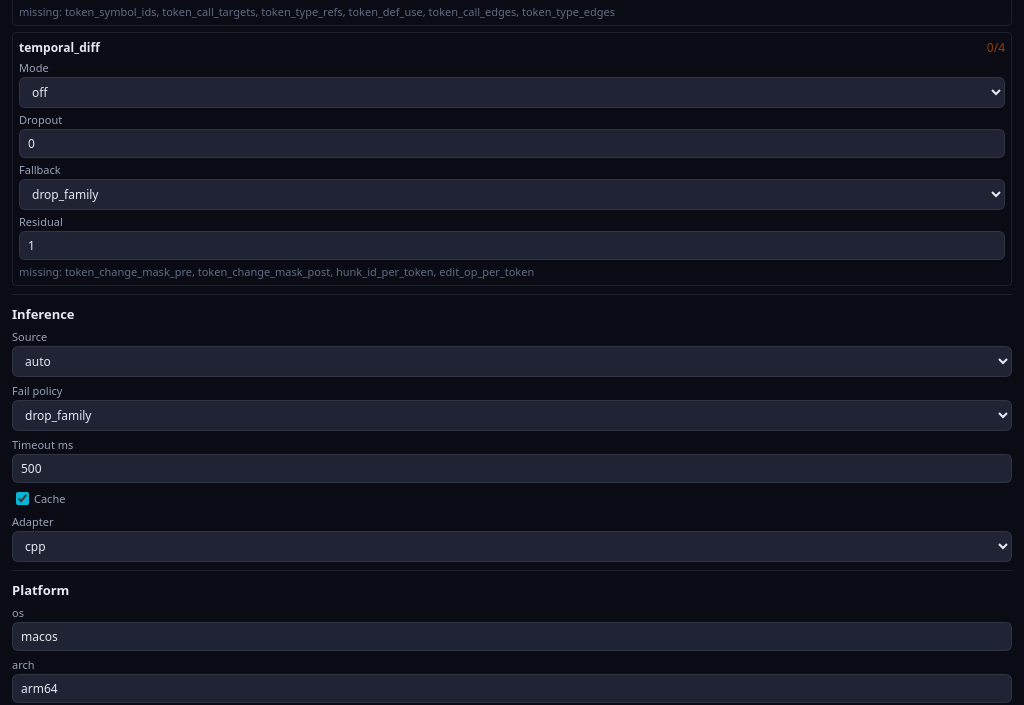
it: SideChannelsTab › runs enriched preview and renders generated tensor summaries
(page scrolled)
Select "parse_if_possible" in the dropdown with test id "side-channel-inference-source". click: (512, 362)
box: [12, 346, 1012, 377]
(page scrolled)
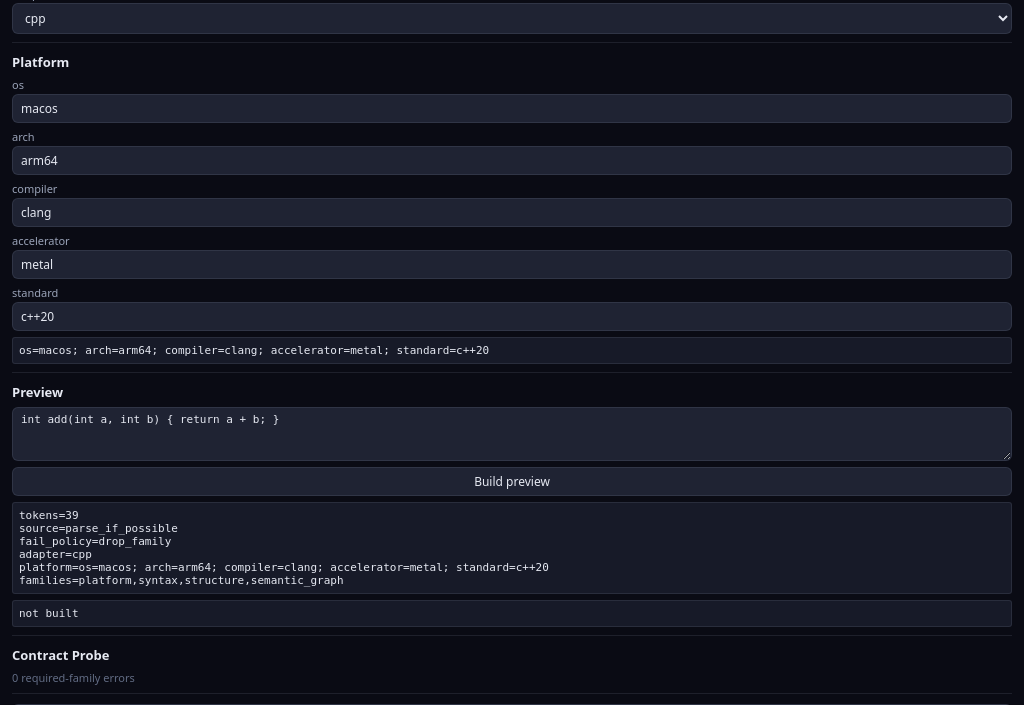
Replace the text in the text box with test id "side-channel-preview-prompt" with "int x;". click: (512, 434)
box: [12, 407, 1012, 461]
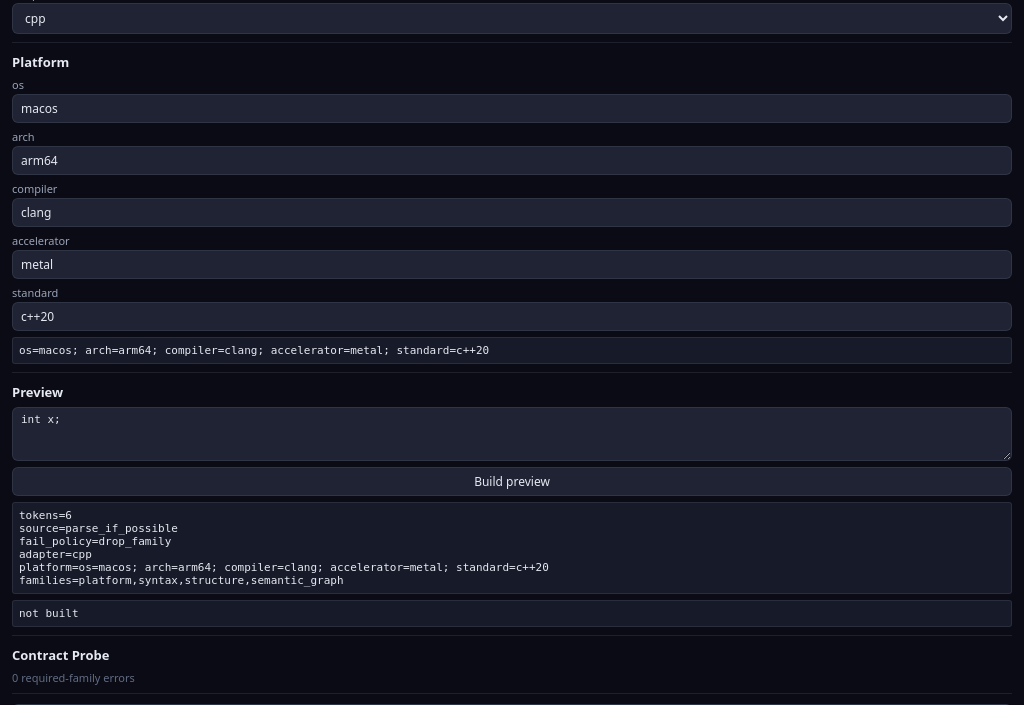
Click the button with test id "side-channel-preview-run". click: (512, 482)
box: [12, 467, 1012, 496]
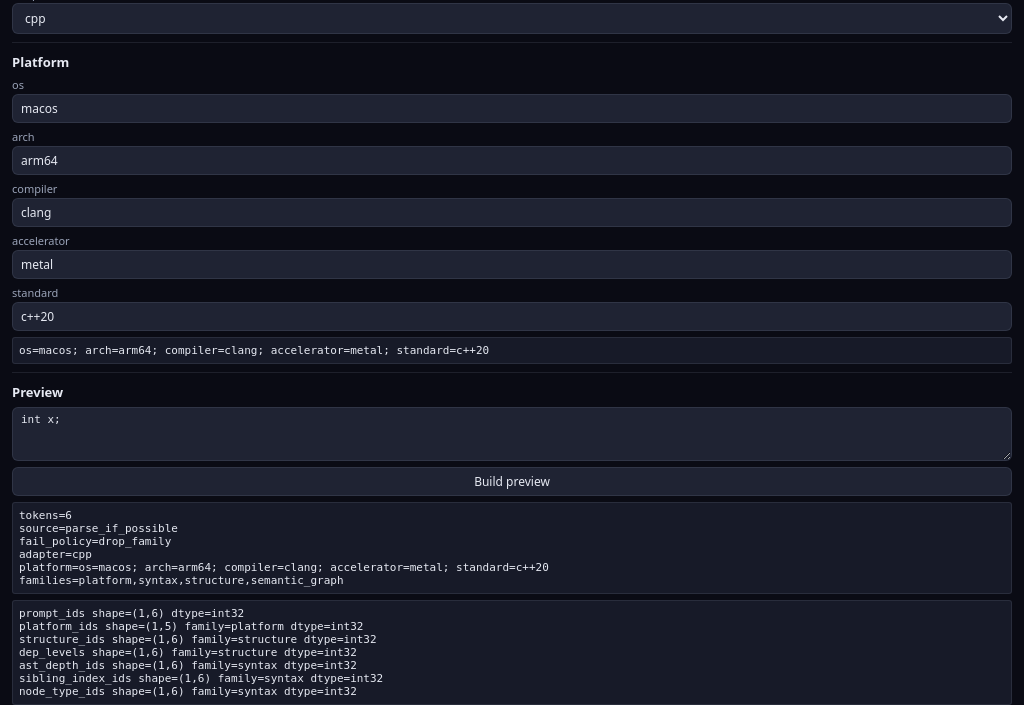
Expected: the text with test id "side-channel-preview-tensors" shows "prompt_ids shape=(1,6)", [19, 607, 383, 698]
Expected: the text with test id "side-channel-preview-tensors" shows "platform_ids shape=(1,5)", [19, 607, 383, 698]
Expected: the text with test id "side-channel-preview-tensors" shows "structure_ids shape=(1,6)", [19, 607, 383, 698]
